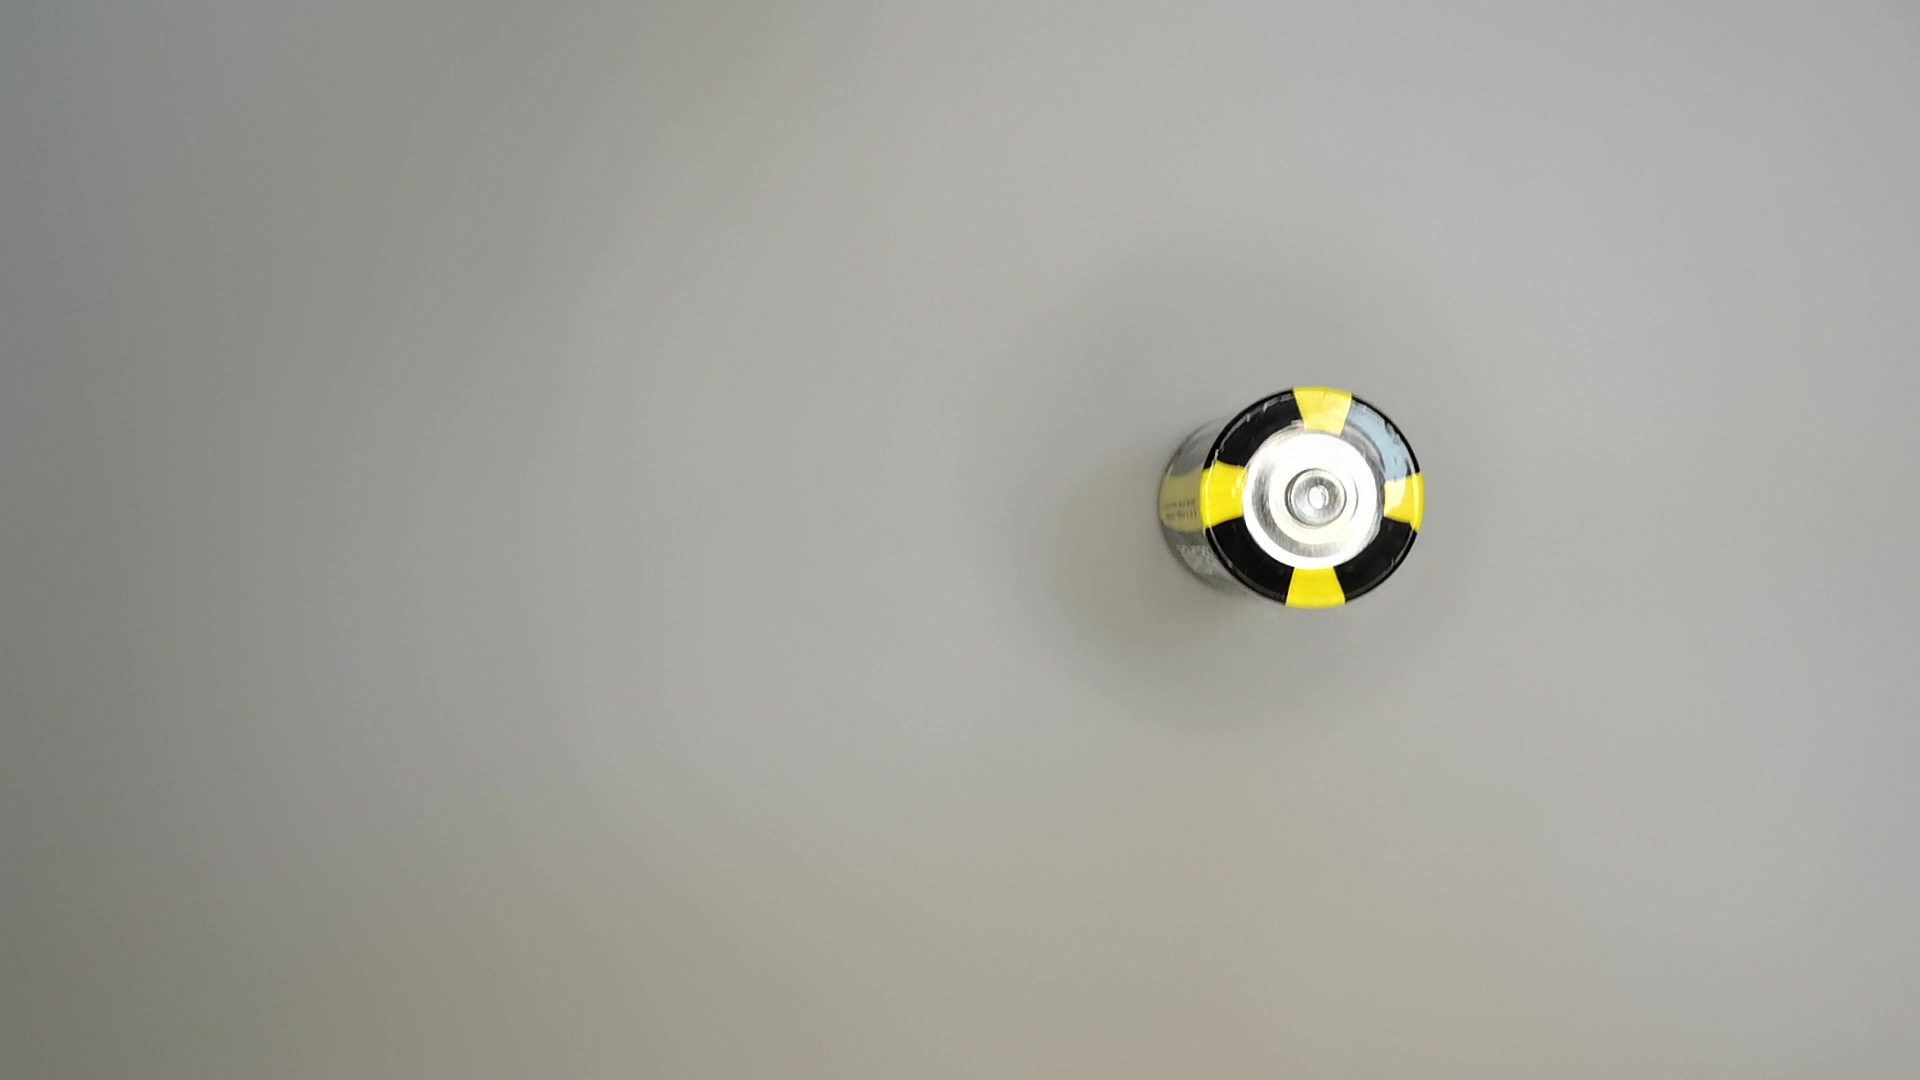battery: (1160, 382, 1429, 612)
